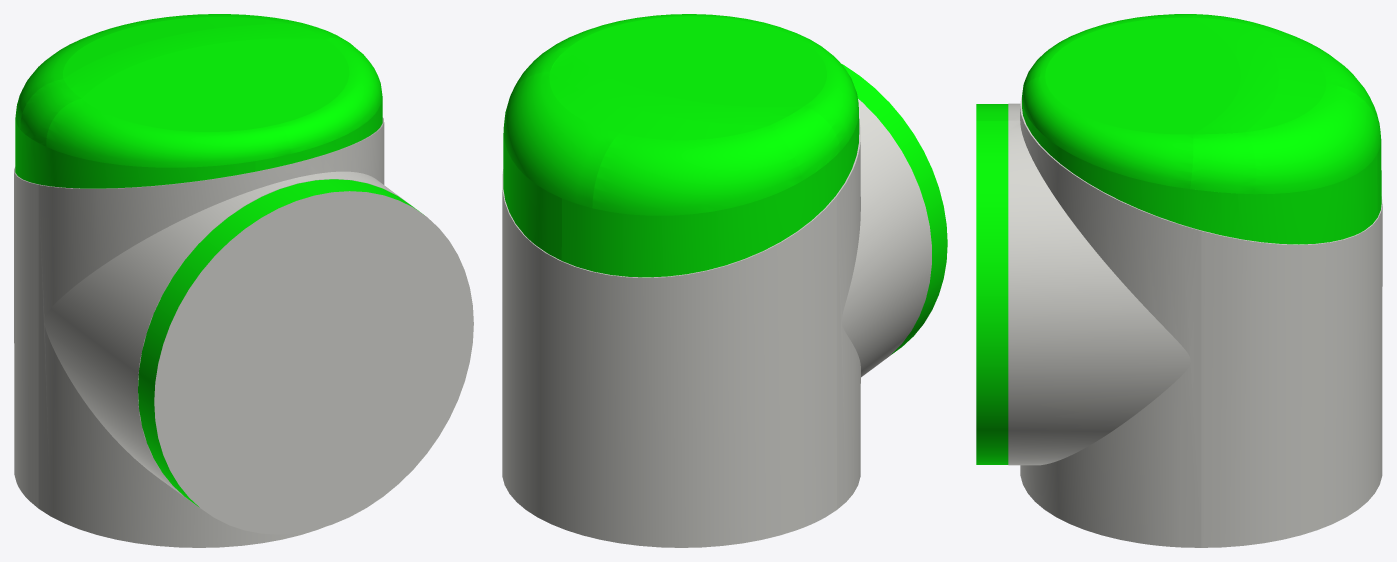
3 renders of one model, left to right at view 1: azimuth 30°, elevation 25°; view 2: azimuth 150°, elevation 25°; view 3: azimuth 270°, elevation 25°, orthographic. The views are drawn at different scales.
Visible parts, largest first — view 1: link1; view 2: link1; view 3: link1.
Part boxes in pixels (x1,y1,x2,y2): link1: [14, 14, 473, 547]; link1: [502, 14, 947, 547]; link1: [976, 14, 1382, 547].
Size of the model in its own units: 0.116 by 0.13 by 0.1396.
